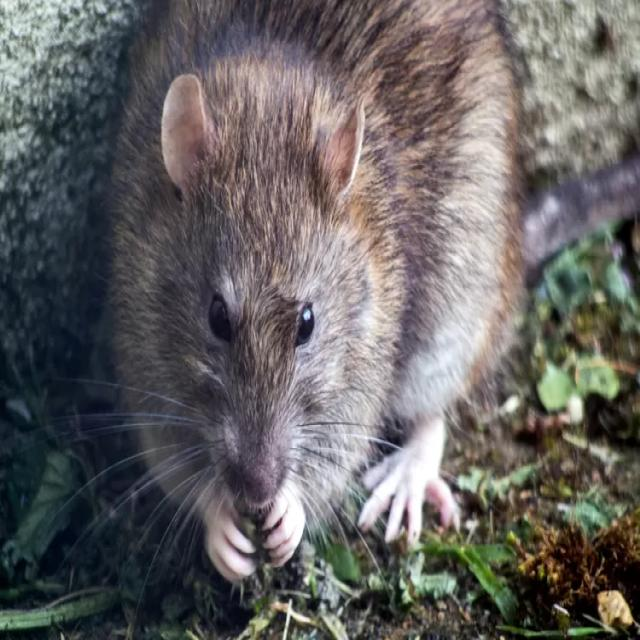rat: (104, 0, 542, 601)
